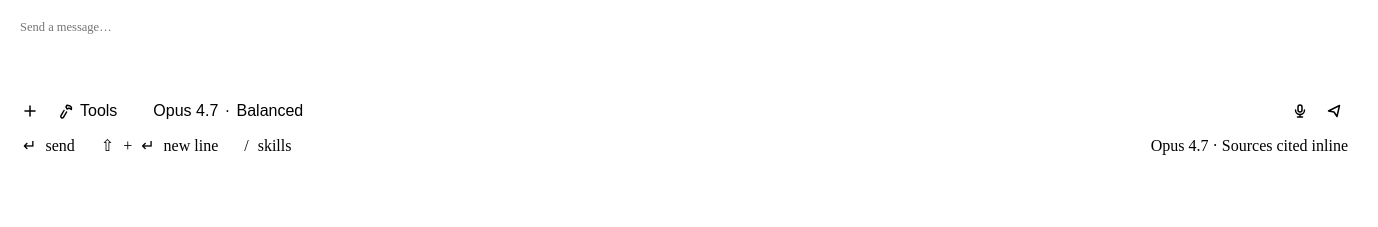
Test: Composer › opens the MentionPopover when '@' is typed at a word boundary
This screenshot has width=1378, height=227.
Type "hello @t" into the text box with test id "composer-textarea" at (687, 48), box left=8, top=8, right=1366, bottom=89
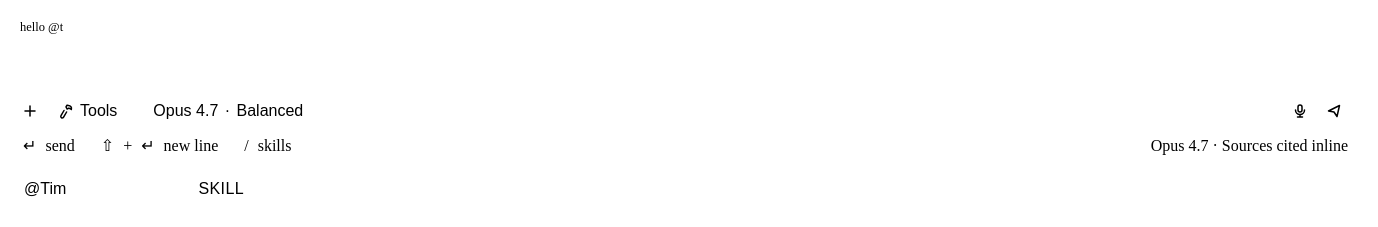
expect the list with test id "mention-popover" is shown: met, box left=8, top=168, right=260, bottom=210
